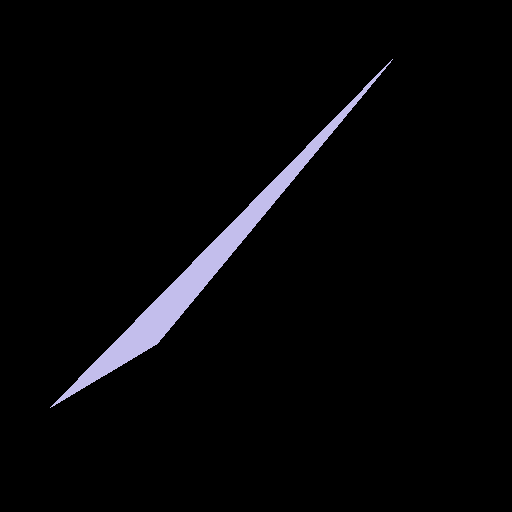triangle: (50, 59, 392, 407)
